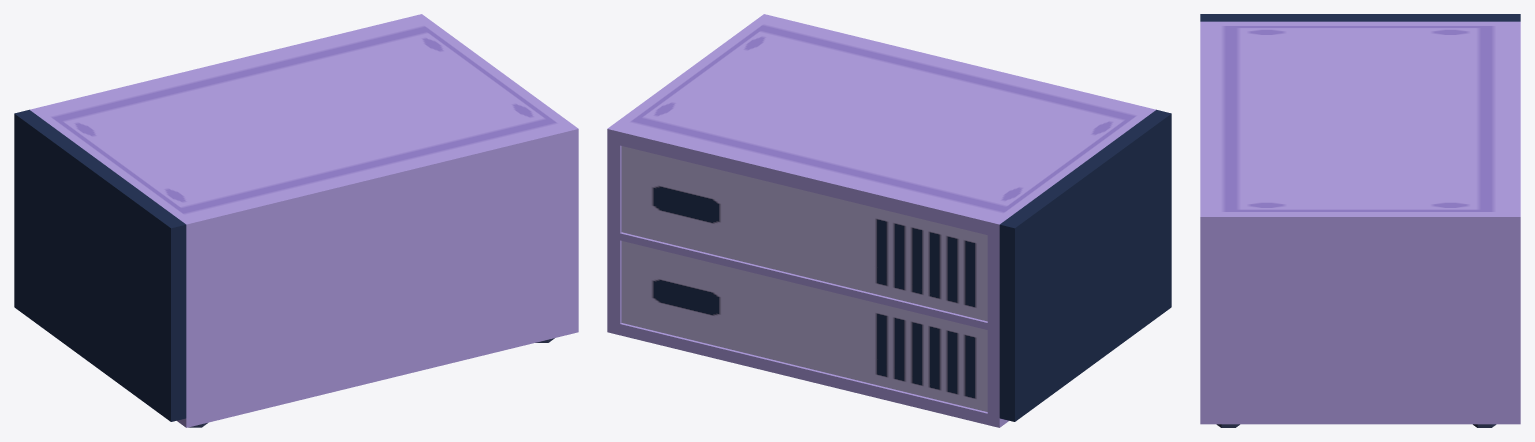
Rendered from bureau_locker_lod1.glb.
The picture shows the model from 3 angles, left to right: view 1: azimuth 30°, elevation 25°; view 2: azimuth 150°, elevation 25°; view 3: azimuth 270°, elevation 25°; orthographic projection. The views are drawn at different scales.
Visible parts, largest first — view 1: bureau_locker_LOD1; view 2: bureau_locker_LOD1; view 3: bureau_locker_LOD1.
Part boxes in pixels (x1,y1,x2,y2): bureau_locker_LOD1: (14,14,578,427); bureau_locker_LOD1: (607,14,1171,427); bureau_locker_LOD1: (1200,14,1520,427).
Bounding box in the file's own units: 12 × 6 × 8.
Materials: 1 (1 with a texture image).
